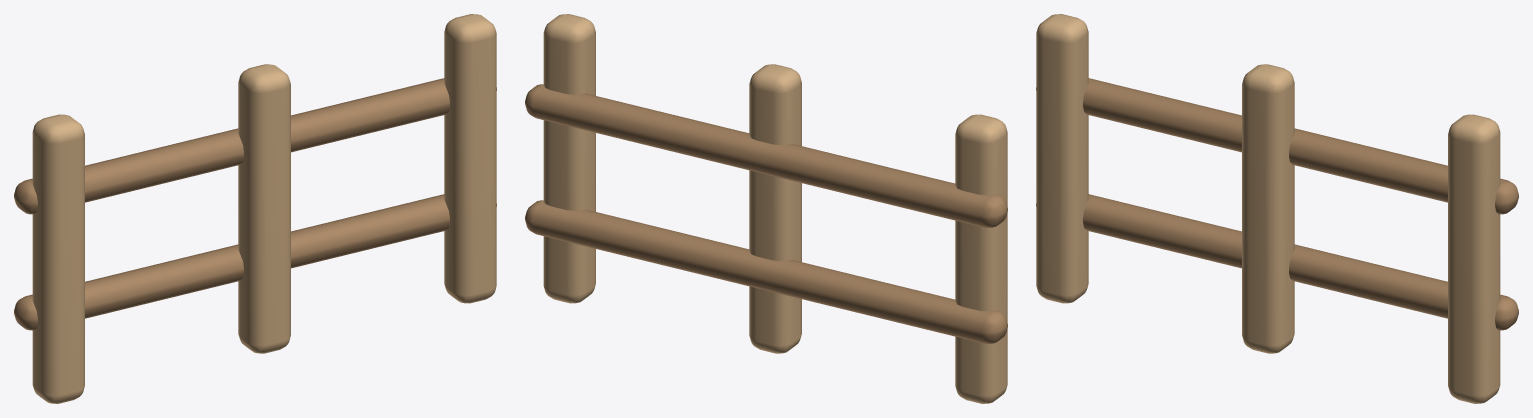
Rendered from fence.glb.
The picture shows the model from 3 angles, left to right: view 1: azimuth 30°, elevation 25°; view 2: azimuth 150°, elevation 25°; view 3: azimuth 330°, elevation 25°; orthographic projection.
Parts seen in each view (by area): view 1: Picket, Picket.001, Picket.002, Rail, Rail.001; view 2: Rail, Rail.001, Picket, Picket.001, Picket.002; view 3: Picket.002, Picket, Picket.001, Rail, Rail.001.
Part boxes in pixels (<box>): Picket: <box>32,114,84,403</box>; Picket.001: <box>238,64,290,353</box>; Picket.002: <box>444,14,496,303</box>; Rail: <box>14,194,496,330</box>; Rail.001: <box>14,78,496,214</box>; Rail: <box>525,200,1007,343</box>; Rail.001: <box>525,84,1007,227</box>; Picket: <box>955,114,1007,403</box>; Picket.001: <box>749,64,801,353</box>; Picket.002: <box>543,14,595,303</box>; Picket.002: <box>1448,114,1500,403</box>; Picket: <box>1036,14,1088,303</box>; Picket.001: <box>1242,64,1294,353</box>; Rail: <box>1036,194,1518,330</box>; Rail.001: <box>1036,78,1518,214</box>.
Bounding box in the file's own units: 1.5 × 0.84 × 0.16.
